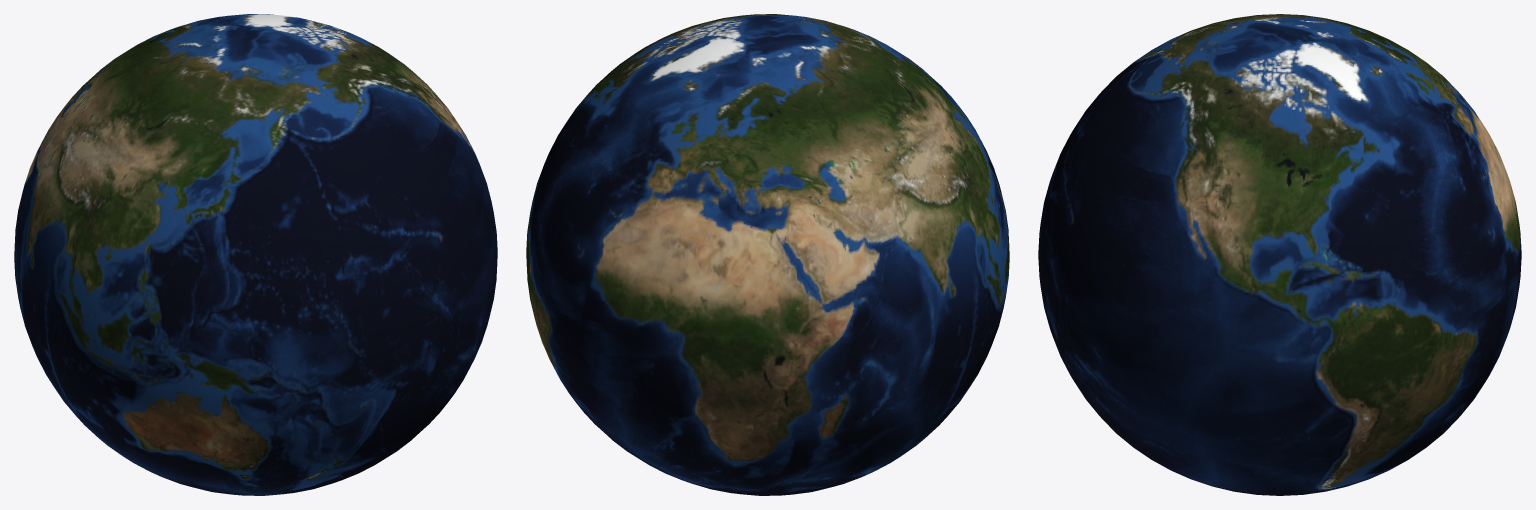
File: earth.glb
3 renders of one model, left to right at view 1: azimuth 30°, elevation 25°; view 2: azimuth 150°, elevation 25°; view 3: azimuth 270°, elevation 25°, orthographic.
Visible parts, largest first — view 1: Cube_002; view 2: Cube_002; view 3: Cube_002.
Boxes of the visible parts, <box> form: Cube_002: <box>14,14,497,495</box>; Cube_002: <box>526,14,1009,495</box>; Cube_002: <box>1038,14,1521,495</box>.
Bounding box in the file's own units: 3 × 2.99 × 3.
Materials: 1 (1 with a texture image).
